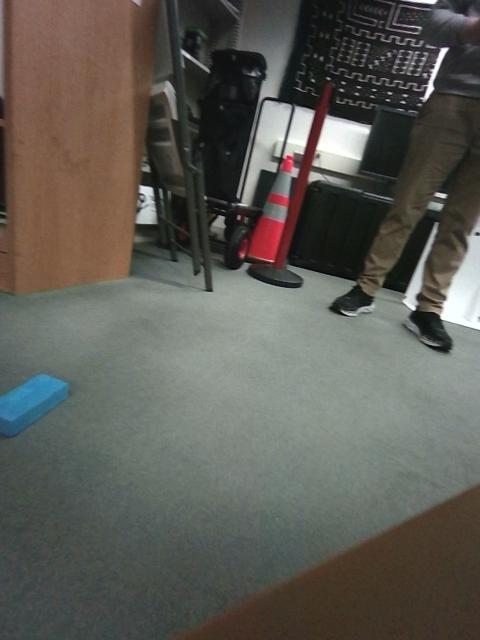block: (397, 379, 456, 435)
